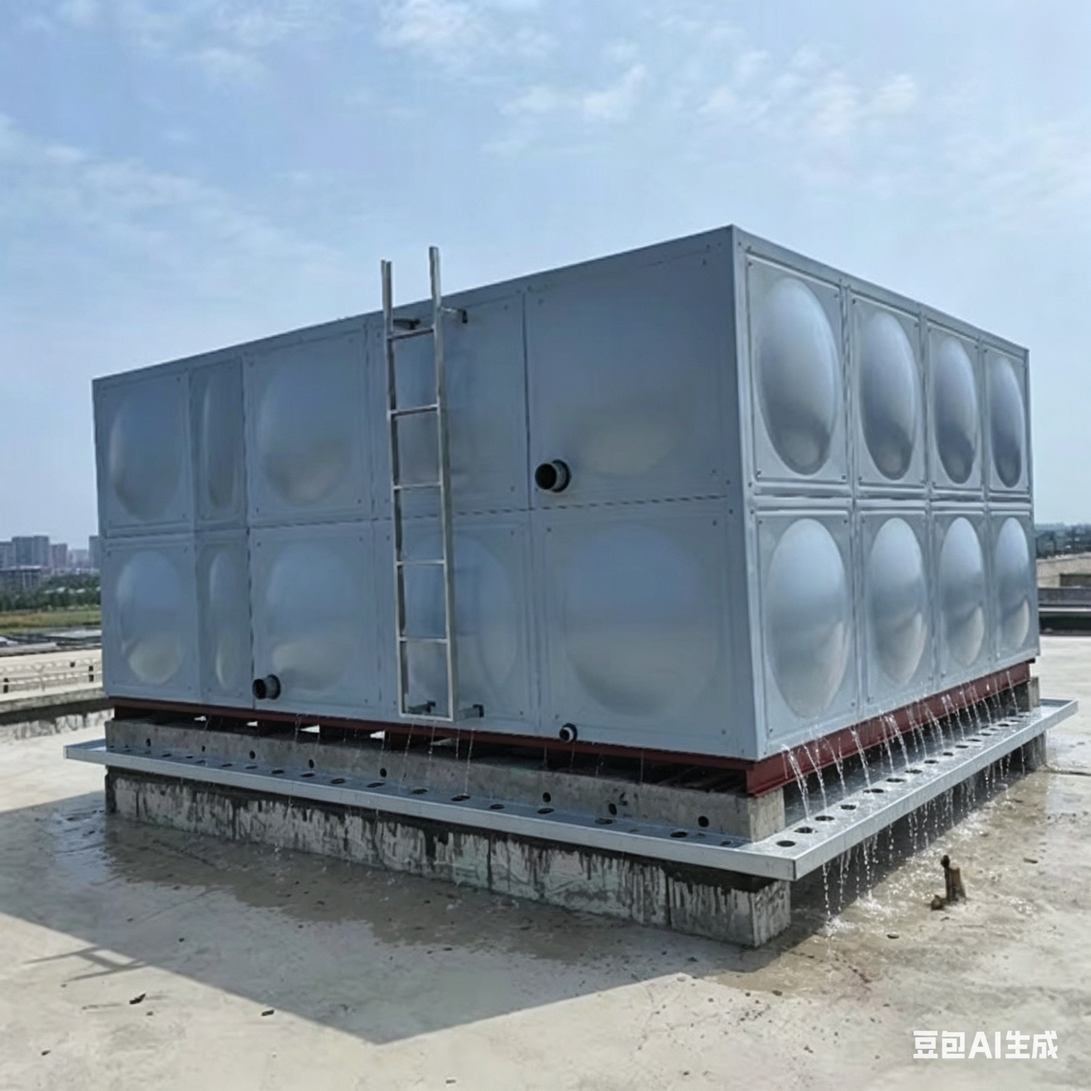Leakage: (80, 814, 606, 951), (778, 750, 1029, 933), (297, 716, 545, 814), (784, 664, 1053, 738)
